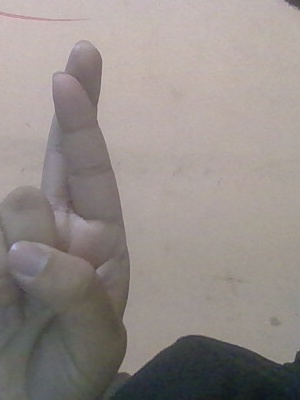R: (1, 38, 129, 397)
